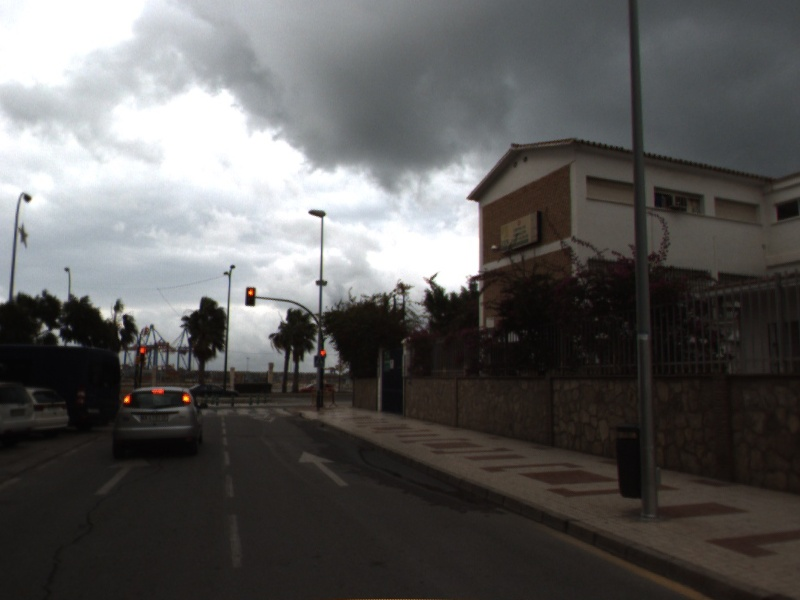STRAIGHT: (89, 455, 155, 499), (294, 448, 353, 489)
